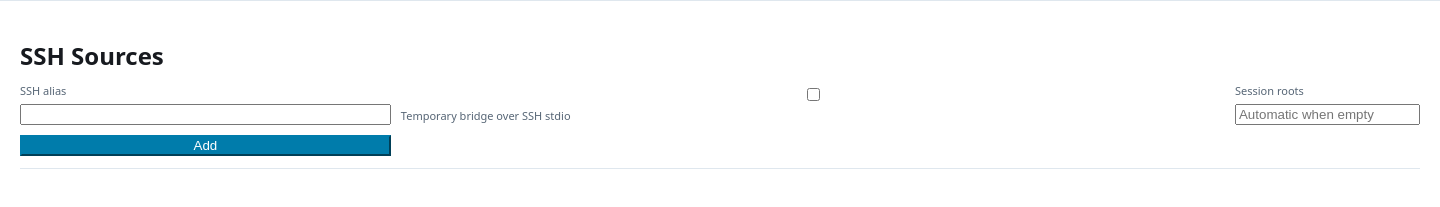
Test: RemoteSourcesPanel › surfaces backend validation errors instead of a generic failure
Type "bad alias" into the field labelled "SSH alias".
click(205, 114); type("bad alias")  # box [20,104,391,125]
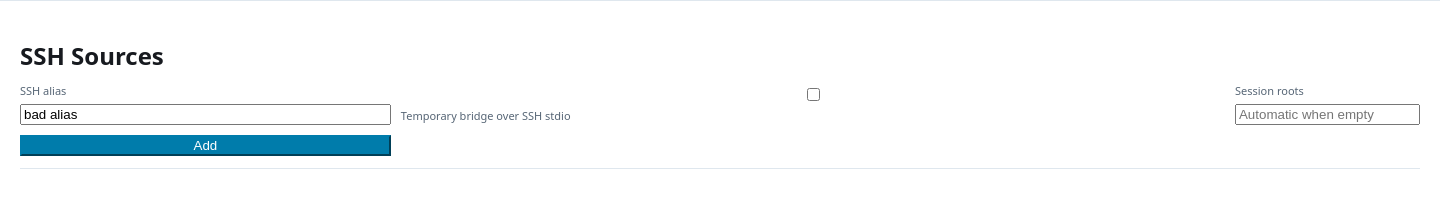
Click the button "Add".
click(205, 145)  # box [20,135,391,156]
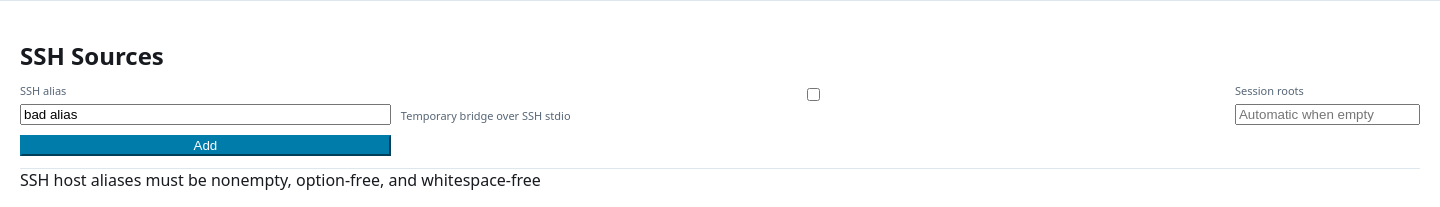
Now the message reads "SSH host aliases must be nonempty, option-free, and whitespace-free", box [20,169,541,191]
